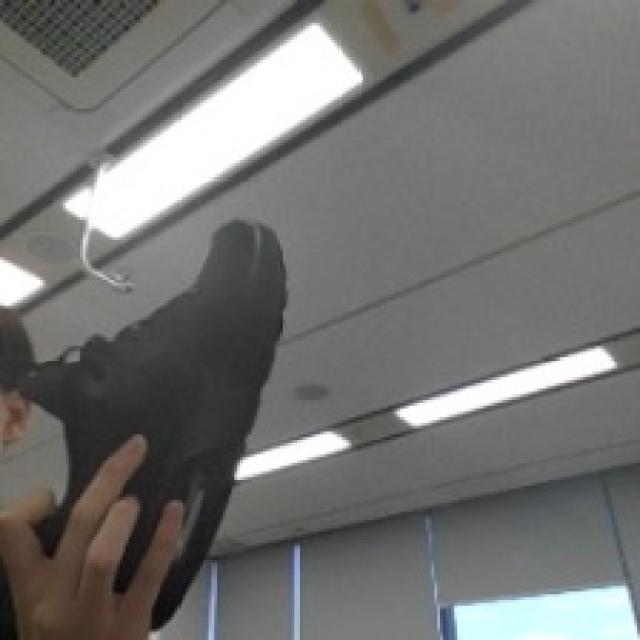shoe: (14, 195, 293, 631)
